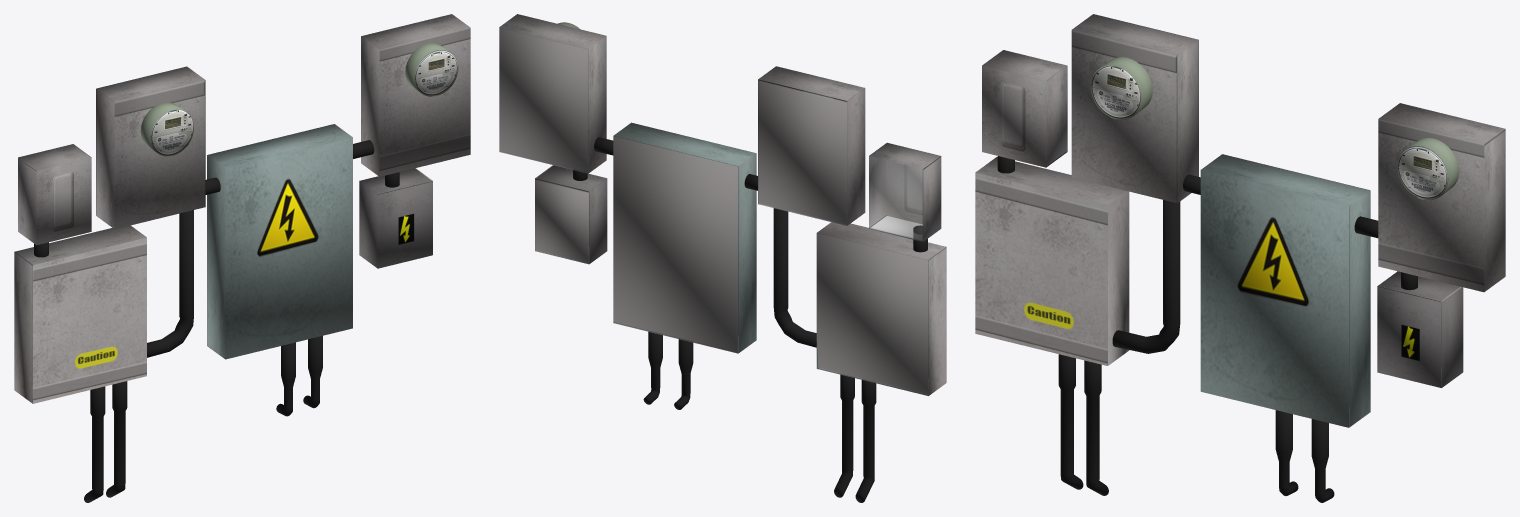
File: meter_boxes.glb
3 views of the same model, side by side, from view 1: azimuth 30°, elevation 25°; view 2: azimuth 150°, elevation 25°; view 3: azimuth 330°, elevation 25° (orthographic). The views are drawn at different scales.
Visible parts, largest first — view 1: ElectricMeterWBoxes; view 2: ElectricMeterWBoxes; view 3: ElectricMeterWBoxes.
Boxes of the visible parts, x1=… form: ElectricMeterWBoxes: x1=14, y1=14, x2=470, y2=502; ElectricMeterWBoxes: x1=499, y1=14, x2=946, y2=502; ElectricMeterWBoxes: x1=975, y1=14, x2=1505, y2=502.
Size of the model in its own units: 1.06 by 0.95 by 0.1212.
3 materials, 2 textured.
